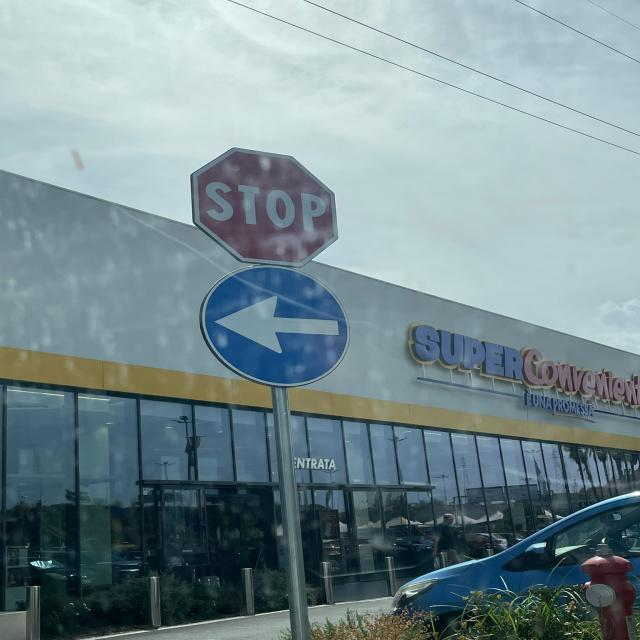prio_stop: (190, 144, 345, 269)
